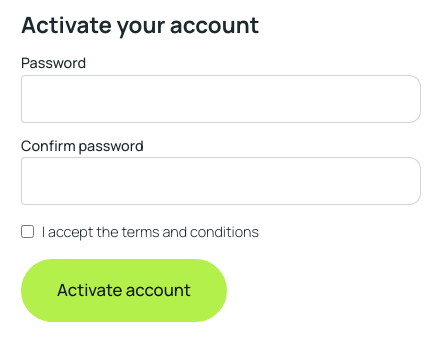
Test: InviteActivationPage › requires the terms to be accepted
Type "password1" into the password field labelled "Password" at (221, 99), box [21, 75, 421, 123]
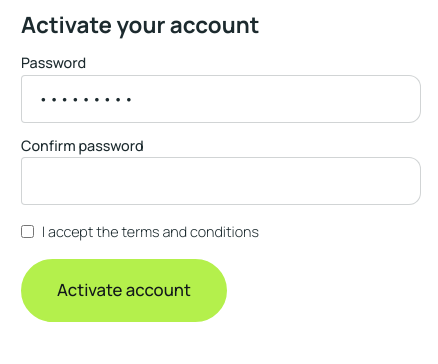
Type "password1" into the password field labelled "Confirm password" at (221, 181), box [21, 157, 421, 205]
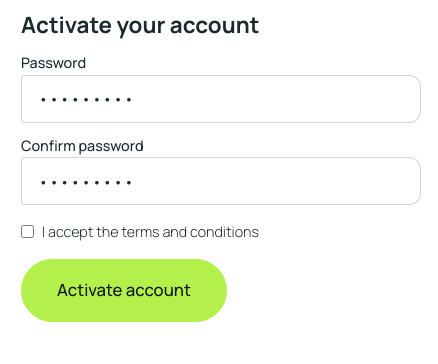
Click the button "Activate account" at (124, 290), box [21, 259, 227, 322]
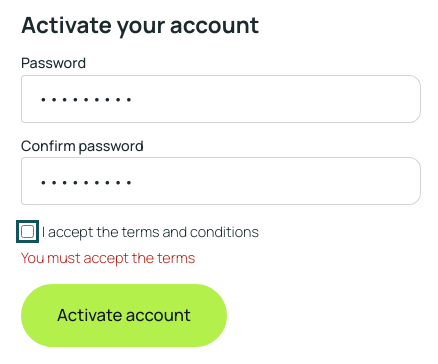
Expected: the text "You must accept the terms" is shown, [21, 248, 195, 267]
